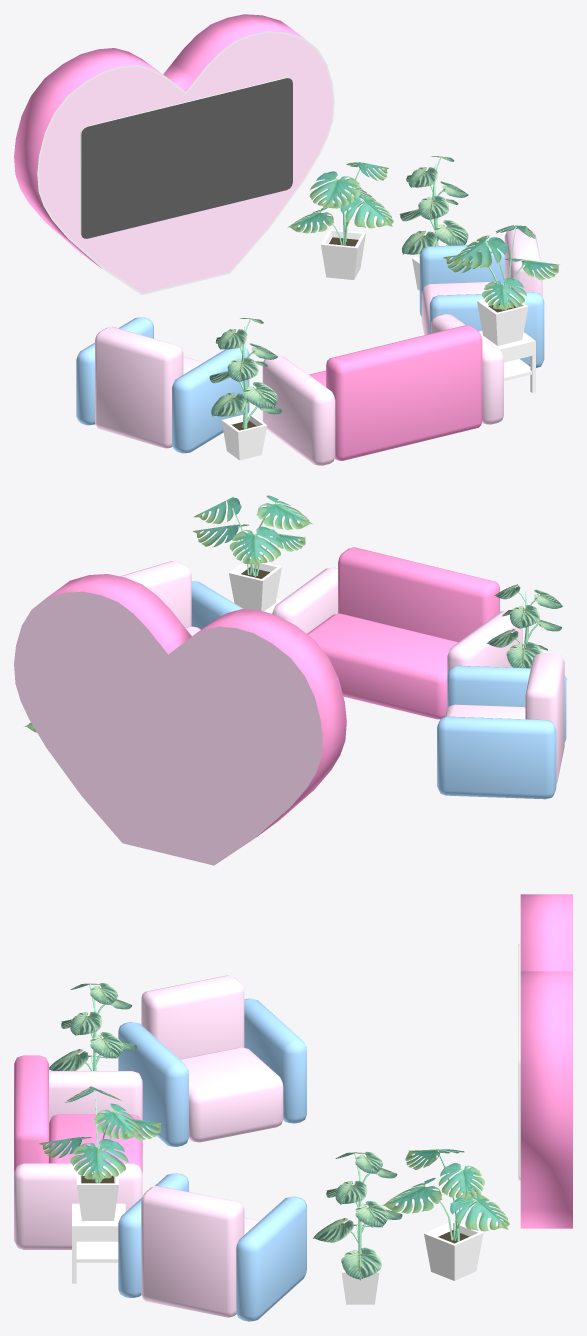
Rendered from Platform4.glb.
3 renders of one model, top to bottom at view 1: azimuth 30°, elevation 25°; view 2: azimuth 150°, elevation 25°; view 3: azimuth 270°, elevation 25°, orthographic. The views are drawn at different scales.
Visible parts, largest first — view 1: Platform4; view 2: Platform4; view 3: Platform4.
Part boxes in pixels (bbox=[...]): Platform4: bbox=[14, 14, 559, 465]; Platform4: bbox=[14, 495, 566, 865]; Platform4: bbox=[14, 894, 572, 1321].
Size of what is drawn, in the model's own units: 5.59 by 2.75 by 5.31.
5 materials, 5 textured.
